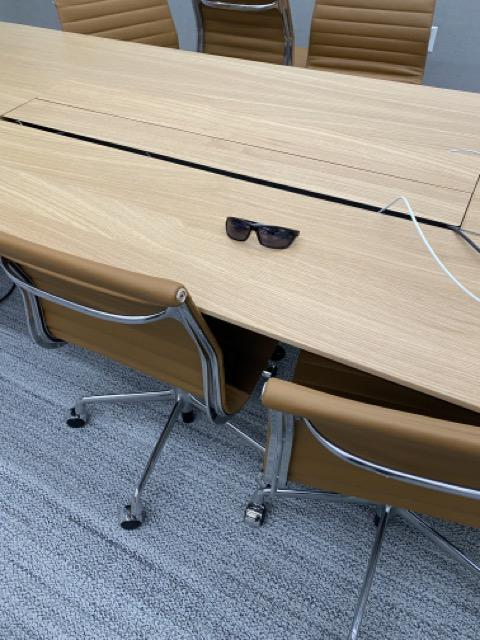Sunglasses: (226, 213, 300, 256)
